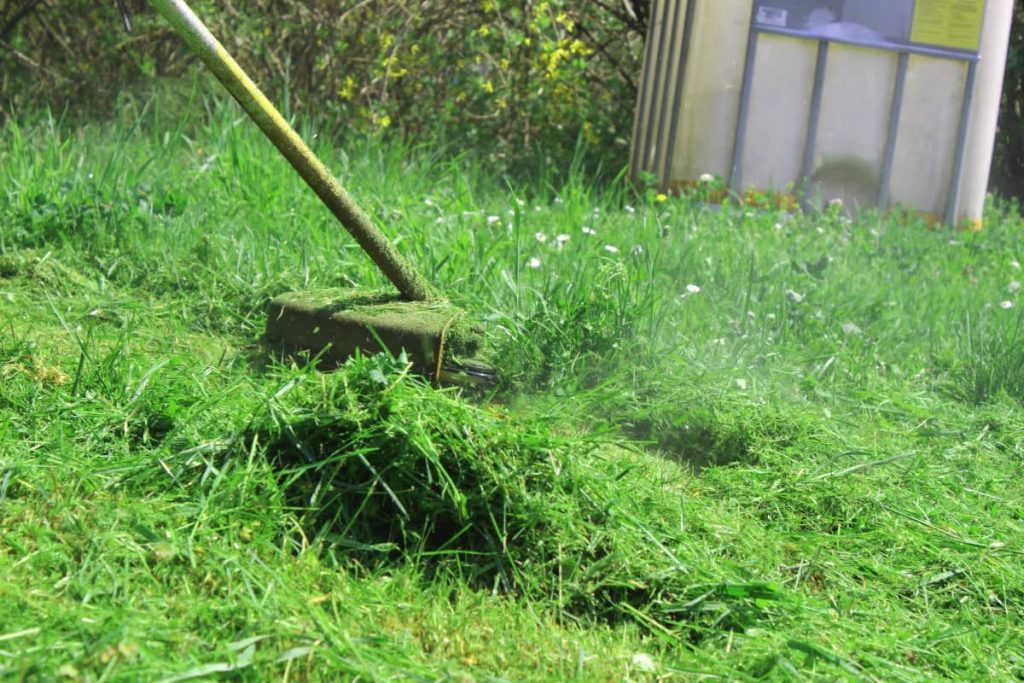grass: (1, 396, 1023, 681)
